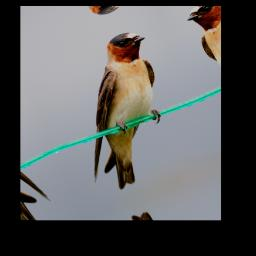Swallow: (46, 25, 195, 199)
